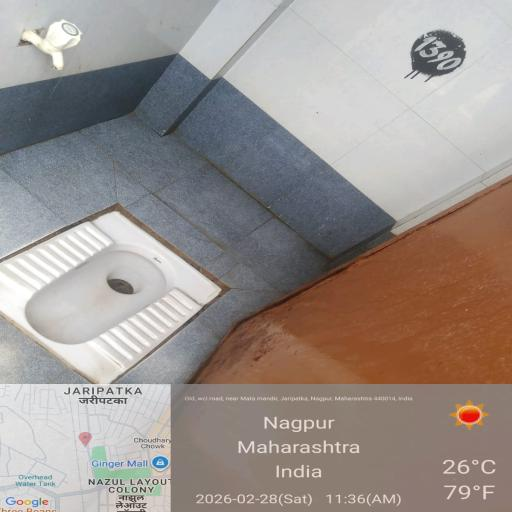clean_floor: (163, 0, 477, 216), (0, 14, 164, 203), (186, 228, 506, 289)
partial_dirty_floor: (204, 292, 313, 376)
partial_dirty_indian: (0, 226, 237, 369)
